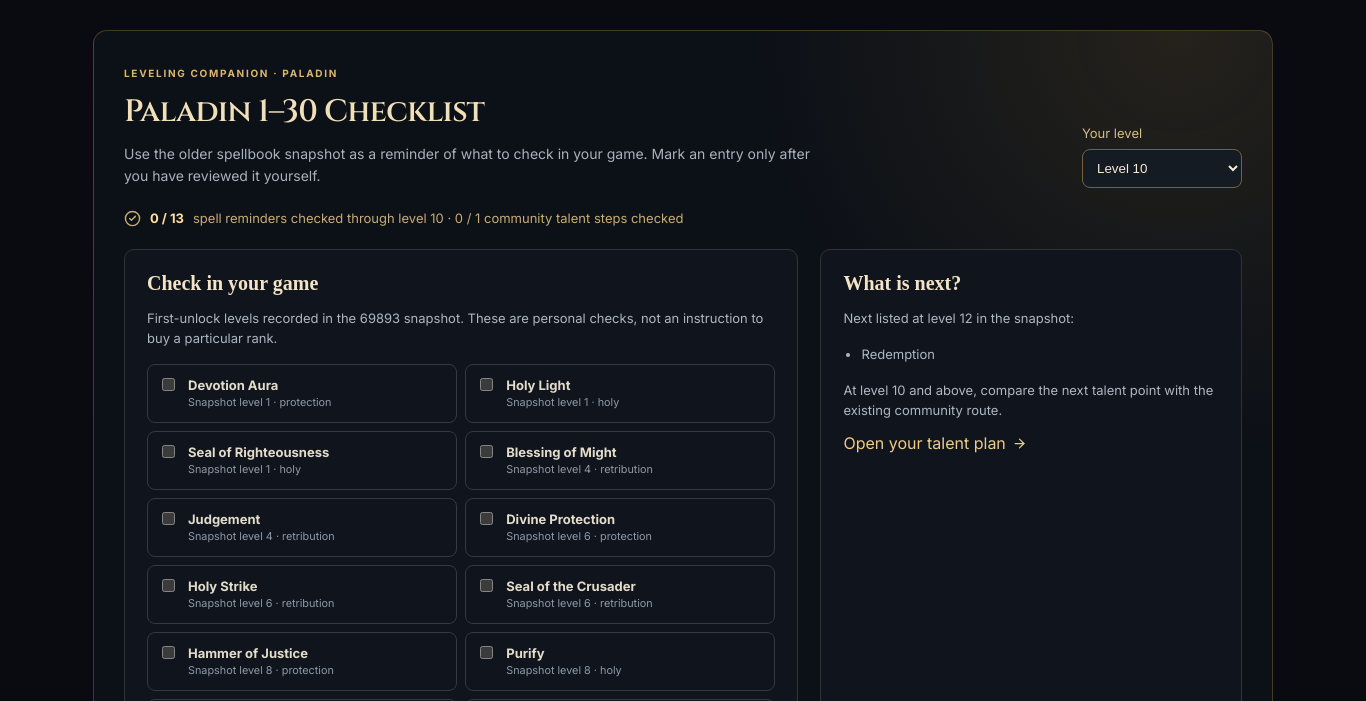
Test: Build landing page template › lets a Paladin player track first-unlock reminders without claiming current trainer ranks
(page scrolled)
expect the element "Paladin 1–30 Checklist" shows "69893 snapshot": met, box [147,310,763,346]
Click the checkbox labelled "Holy Light Snapshot level 1 · holy" at (487, 384), box [480,378,493,391]
(page scrolled)
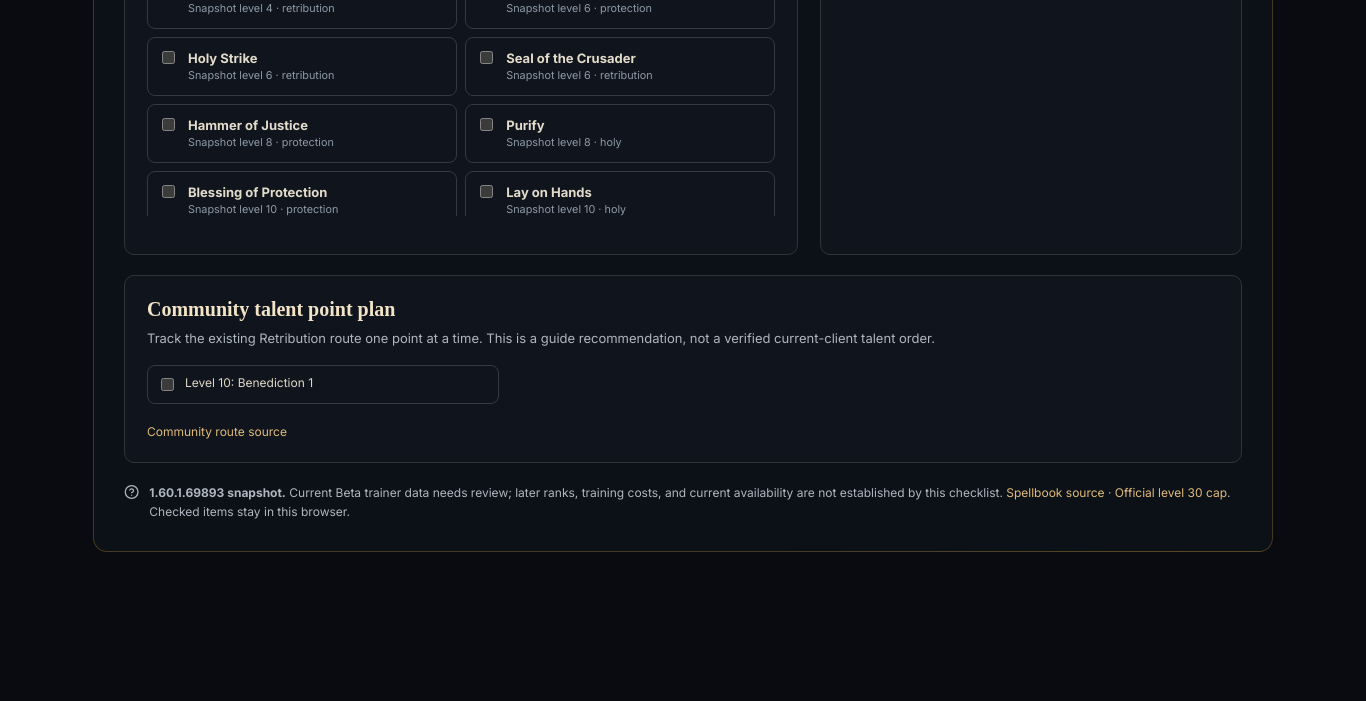
Click the checkbox labelled "Level 10: Benediction 1" at (168, 384), box [161,378,174,391]
(page scrolled)
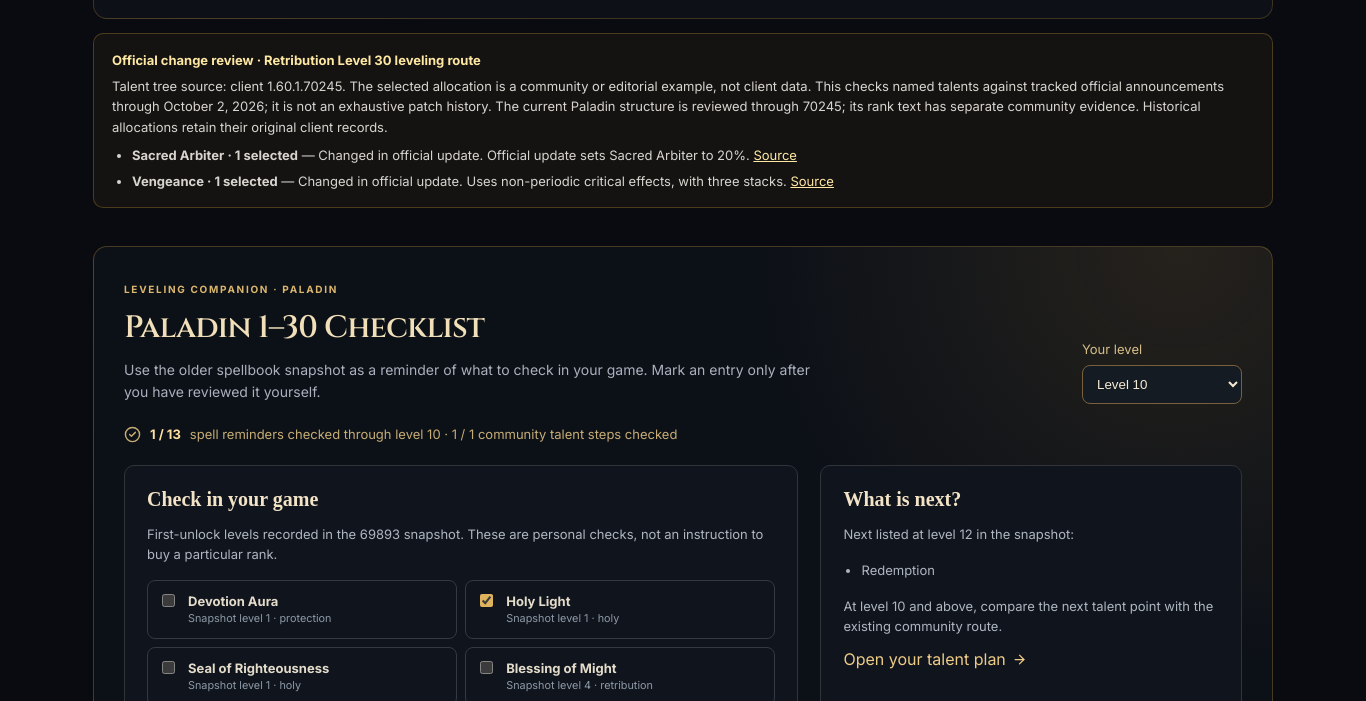
Select "Level 20" in the dropdown named "Your checklist level" at (1162, 384), box [1082,365,1242,404]
(page scrolled)
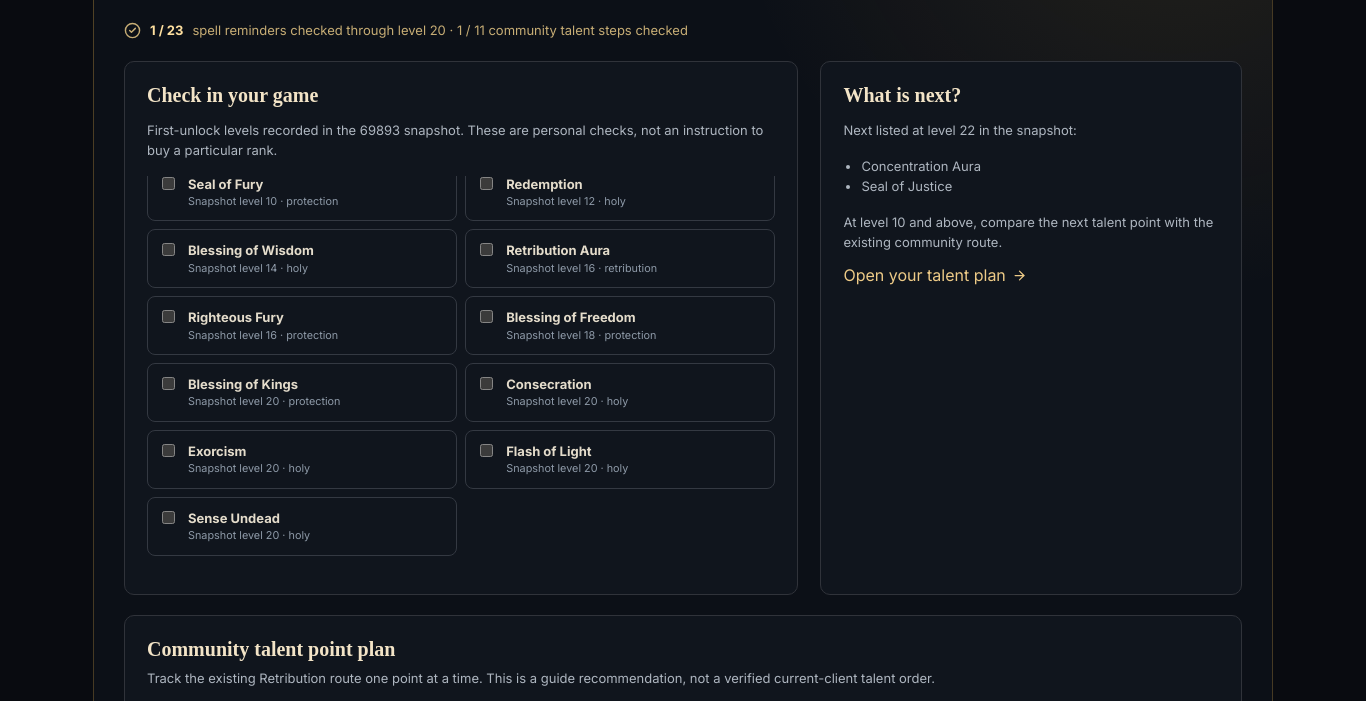
expect the text "Consecration" is shown: met, box [506,376,592,392]
